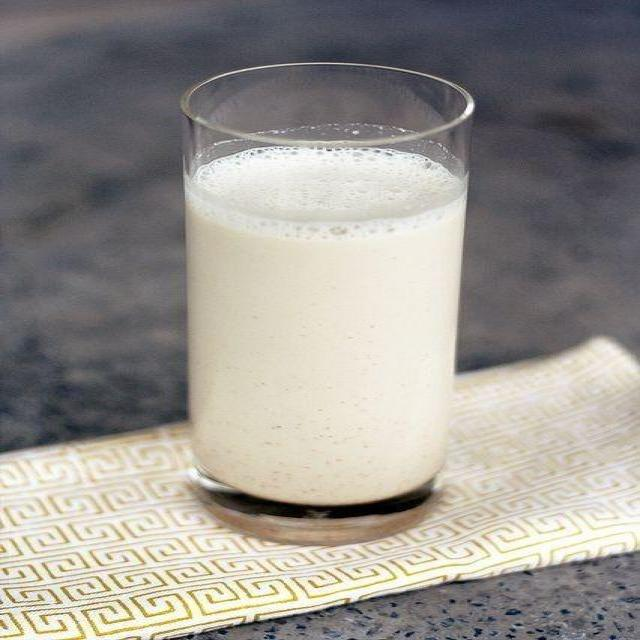glass-normal: (171, 58, 478, 545)
